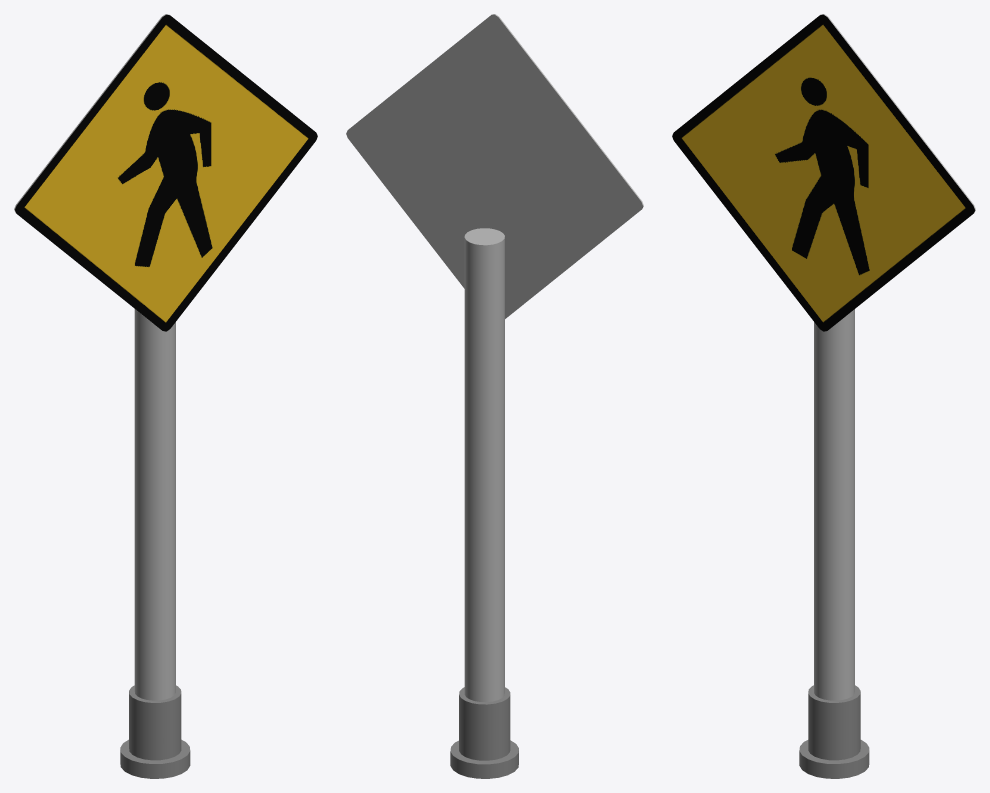
The model's file is Pedestrian_Sign.fbx.
3 views of the same model, side by side, from view 1: azimuth 30°, elevation 25°; view 2: azimuth 150°, elevation 25°; view 3: azimuth 330°, elevation 25° (orthographic). The views are drawn at different scales.
Parts seen in each view (by area): view 1: polySurface72; view 2: polySurface72; view 3: polySurface72.
Part boxes in pixels (<box>): polySurface72: <box>14,14,317,778</box>; polySurface72: <box>346,14,643,778</box>; polySurface72: <box>672,14,975,778</box>.
Bounding box in the file's own units: 5.86 × 14 × 1.18.
